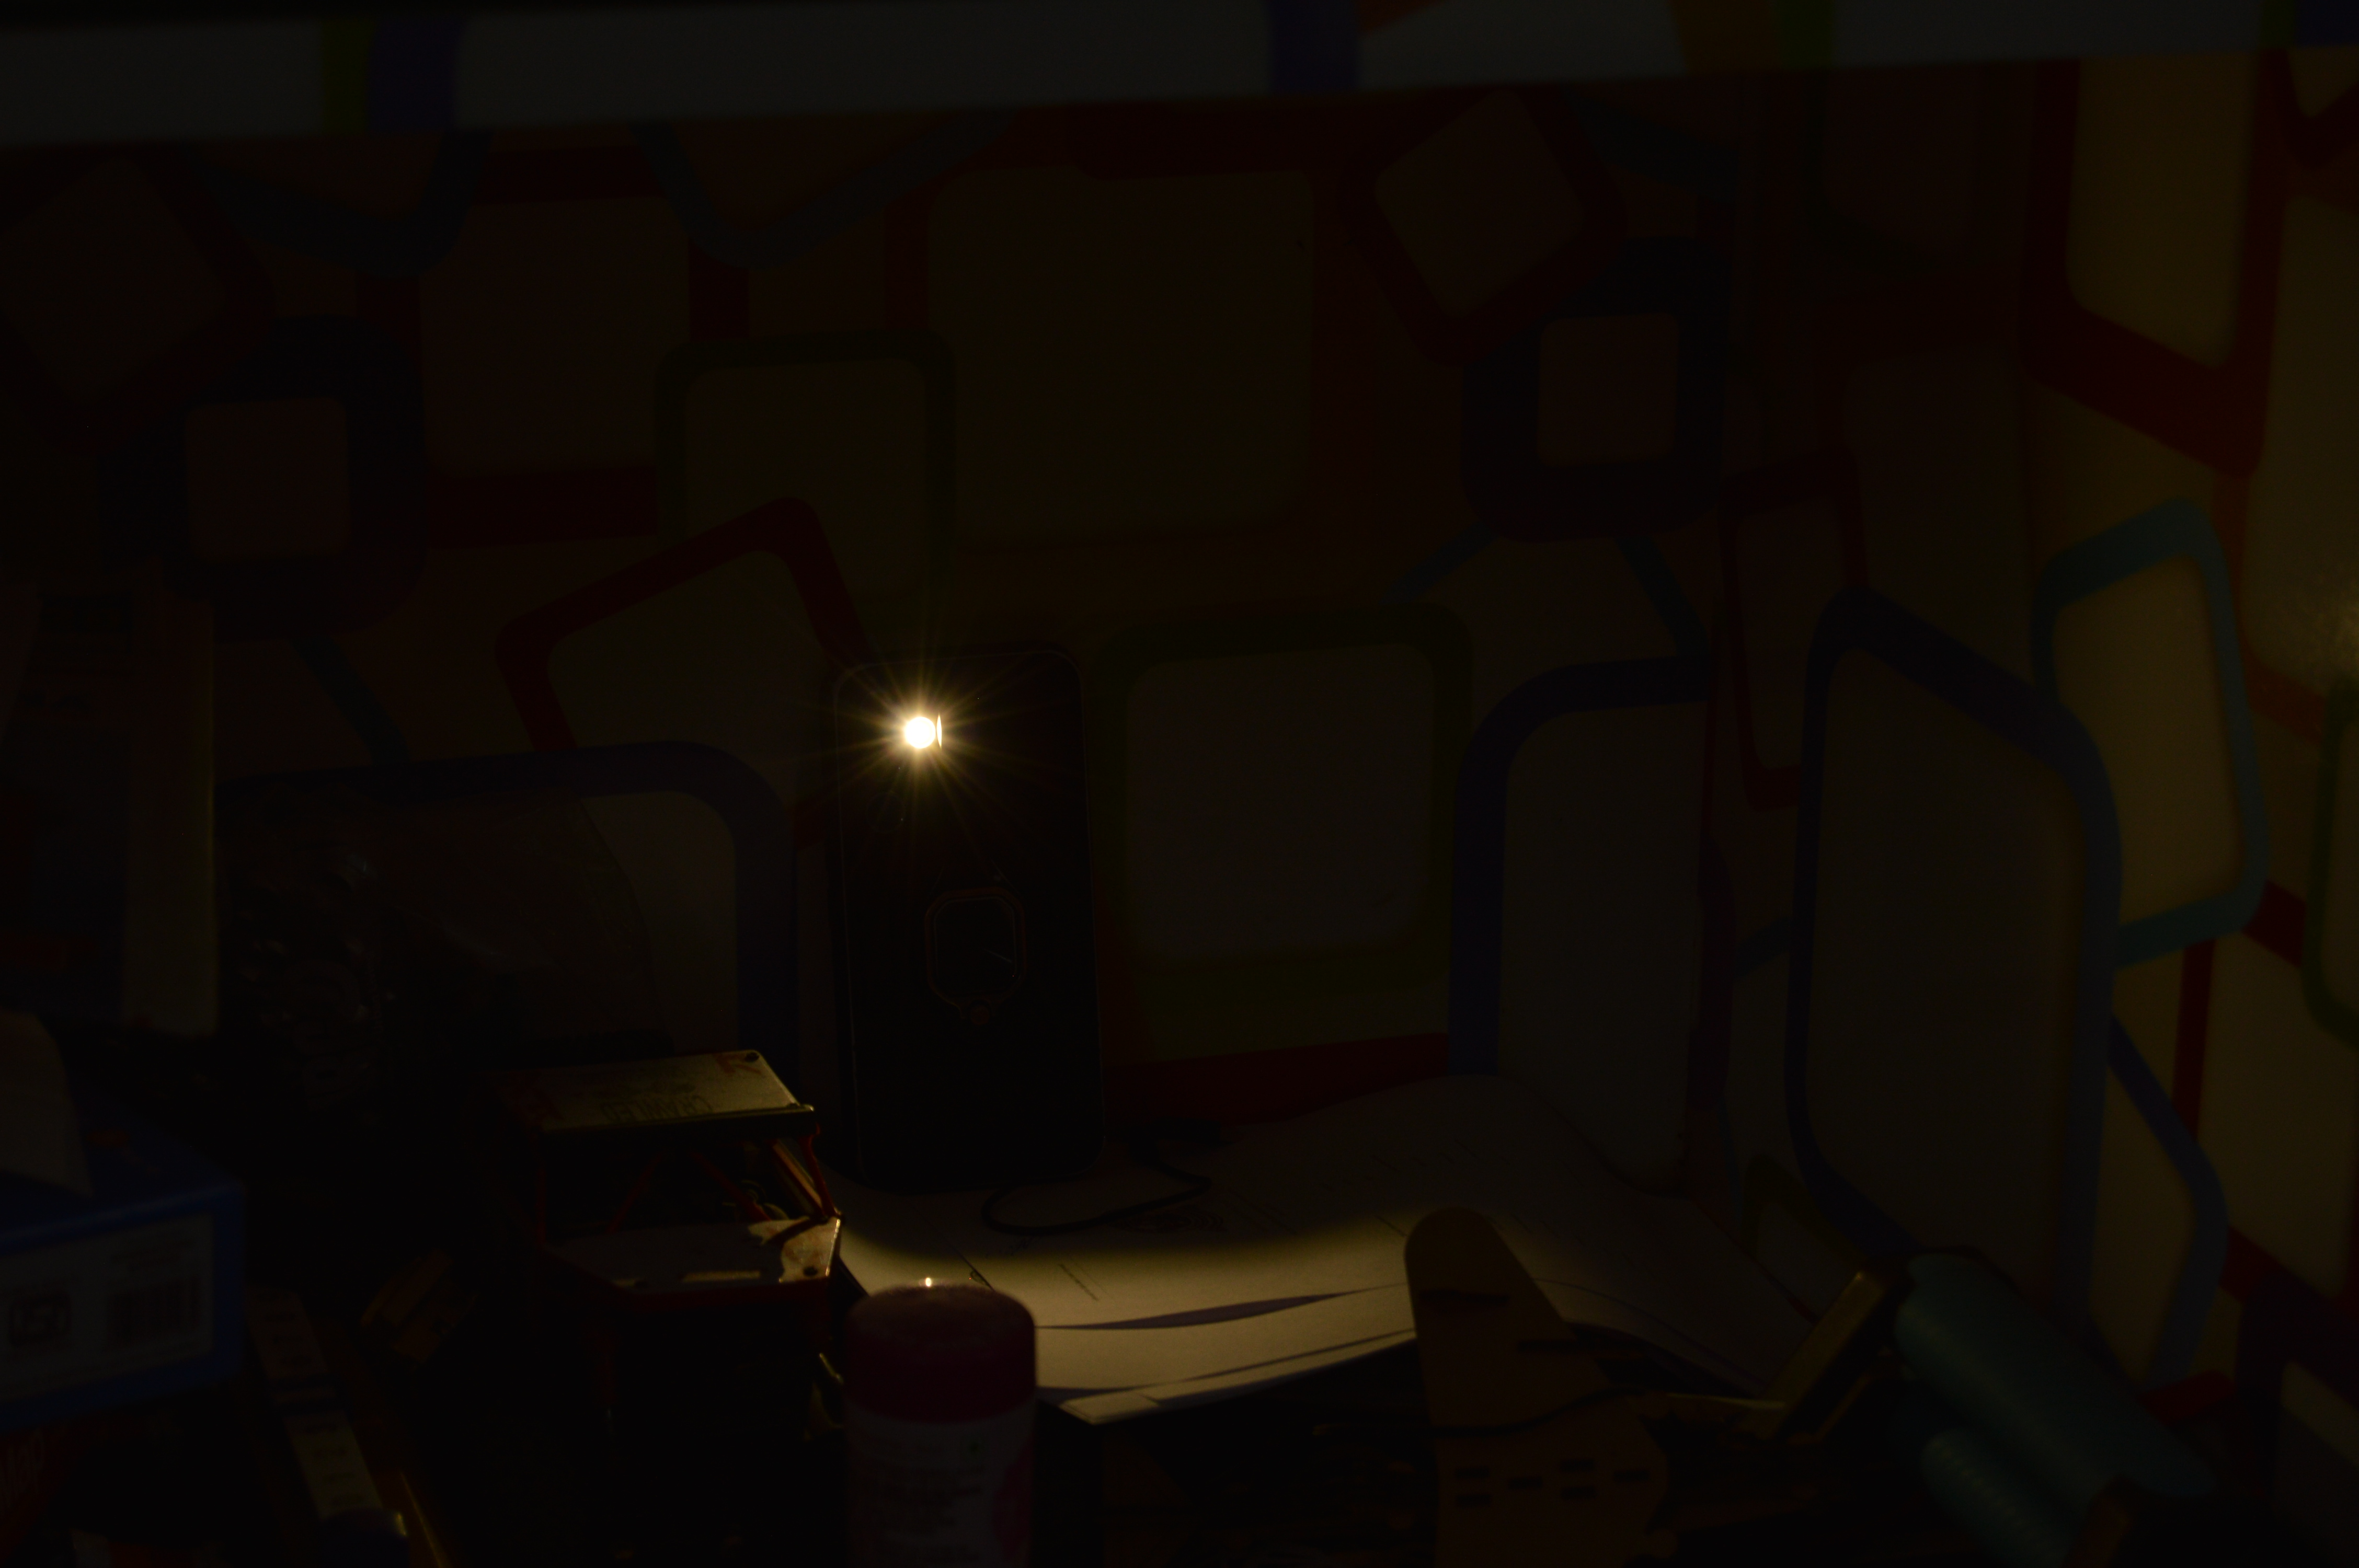Glare: (901, 714, 950, 755)
